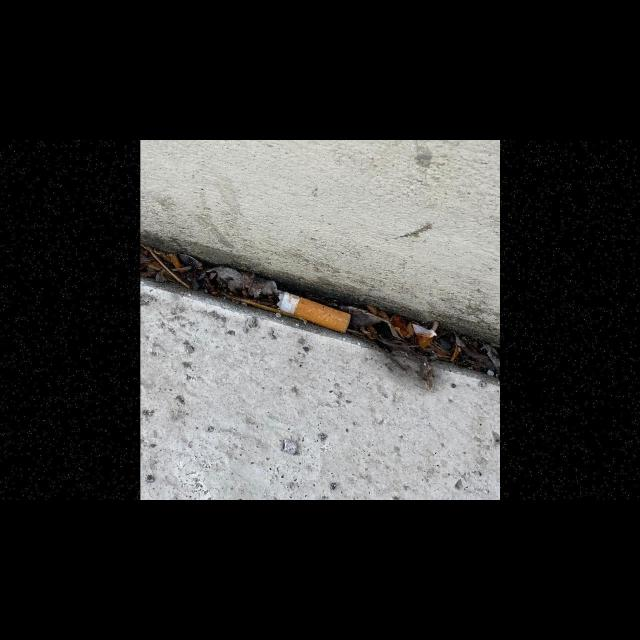cigarette: (275, 292, 351, 334)
